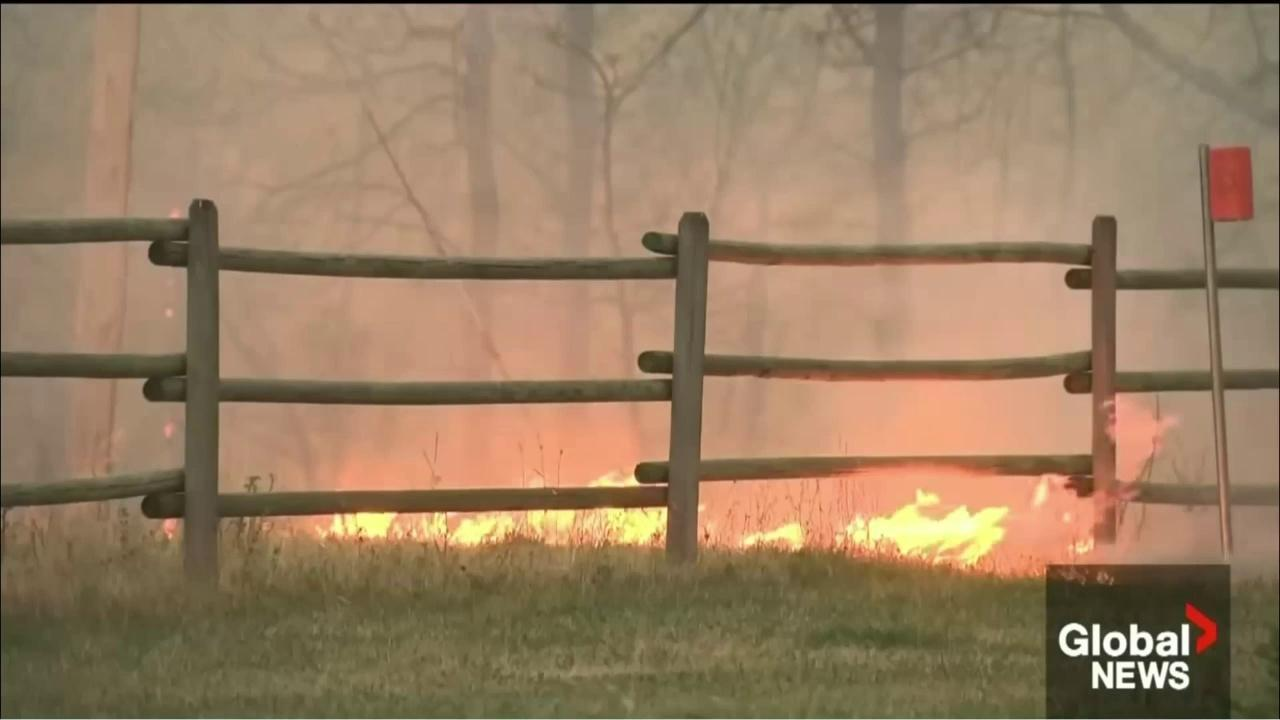fire: (306, 457, 725, 547), (836, 488, 1015, 572), (736, 515, 811, 555), (162, 509, 184, 545), (165, 206, 185, 230), (163, 420, 178, 445), (163, 305, 176, 322)
smoke: (3, 4, 1277, 586)
